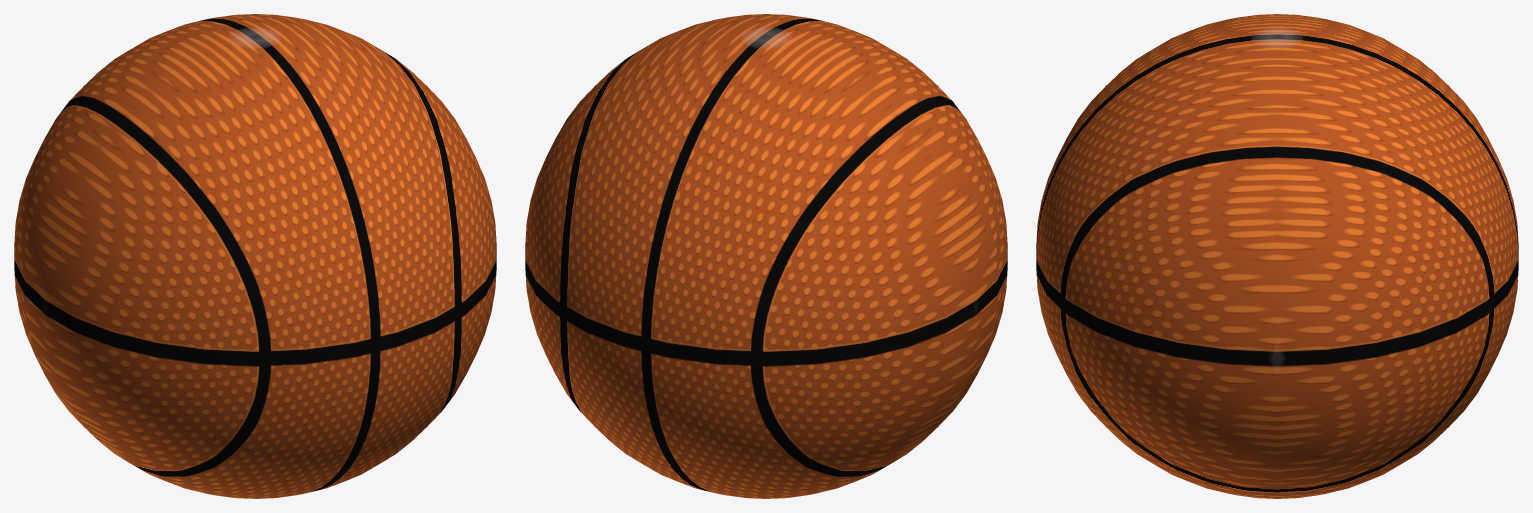
The model's file is ball.obj.
The picture shows the model from 3 angles, left to right: view 1: azimuth 30°, elevation 25°; view 2: azimuth 150°, elevation 25°; view 3: azimuth 270°, elevation 25°; orthographic projection.
Parts seen in each view (by area): view 1: pSphere1; view 2: pSphere1; view 3: pSphere1.
Boxes of the visible parts, <box> form: pSphere1: <box>14,14,496,498</box>; pSphere1: <box>525,14,1007,498</box>; pSphere1: <box>1036,14,1518,498</box>.
Bounding box in the file's own units: 10 × 10 × 9.95.
1 material, 1 textured.
